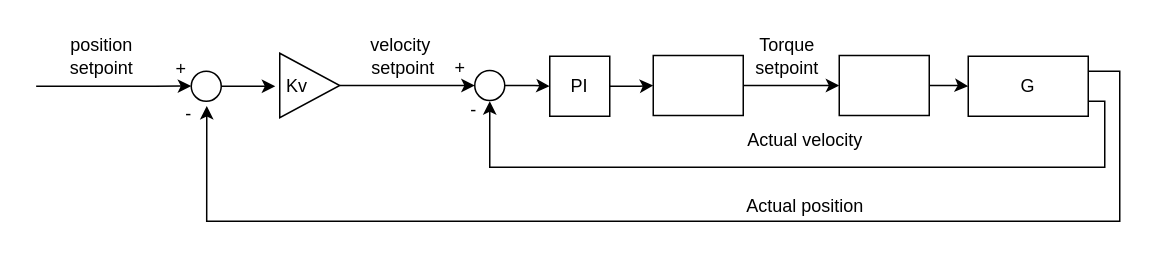
Image size: 1160x260. Some labels were removed from this diagram. The centre of each missing label's shape, as x and y in pixels:
Current Ctrl: the point at 883,85
Filters: the point at 697,85
